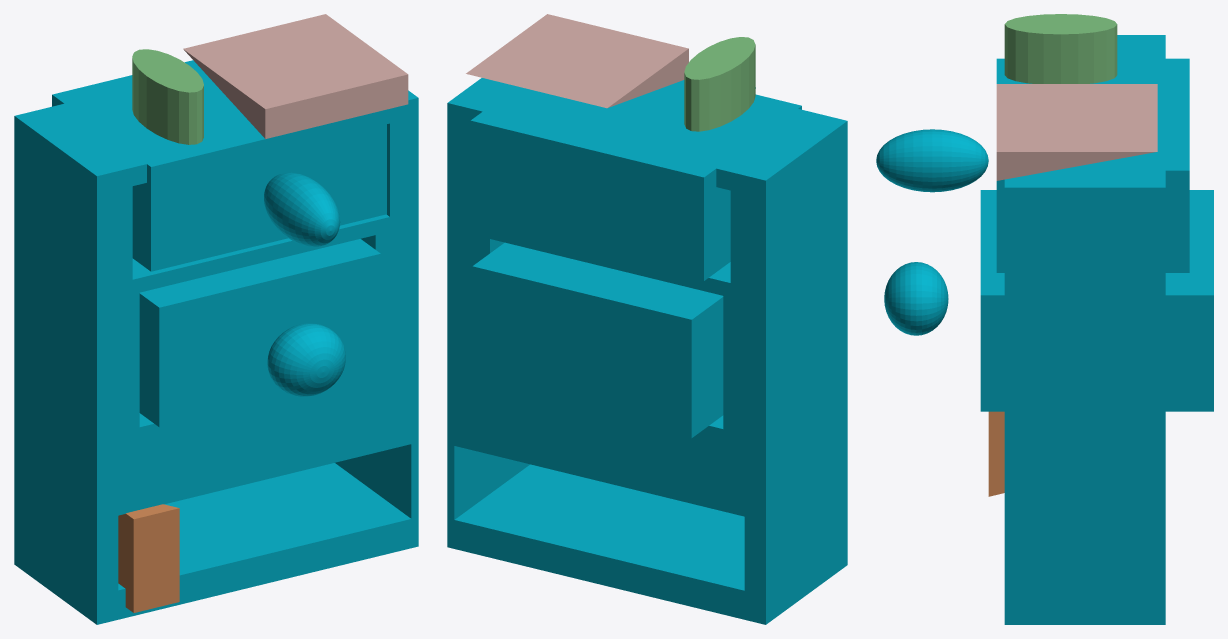
File: Sizzling Elzing-Bombul (1).glb
3 renders of one model, left to right at view 1: azimuth 30°, elevation 25°; view 2: azimuth 150°, elevation 25°; view 3: azimuth 270°, elevation 25°, orthographic. The views are drawn at different scales.
Parts seen in each view (by area): view 1: Mesh_Mesh_head_geo.001_lambert2SG.001; view 2: Mesh_Mesh_head_geo.001_lambert2SG.001; view 3: Mesh_Mesh_head_geo.001_lambert2SG.001.
Boxes of the visible parts, bbox=[...] form: Mesh_Mesh_head_geo.001_lambert2SG.001: bbox=[14, 14, 418, 624]; Mesh_Mesh_head_geo.001_lambert2SG.001: bbox=[447, 14, 847, 624]; Mesh_Mesh_head_geo.001_lambert2SG.001: bbox=[876, 14, 1213, 624].
Bounding box in the file's own units: 45 × 68 × 42.
